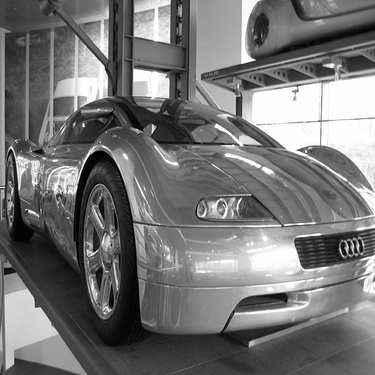car: (6, 55, 371, 335)
